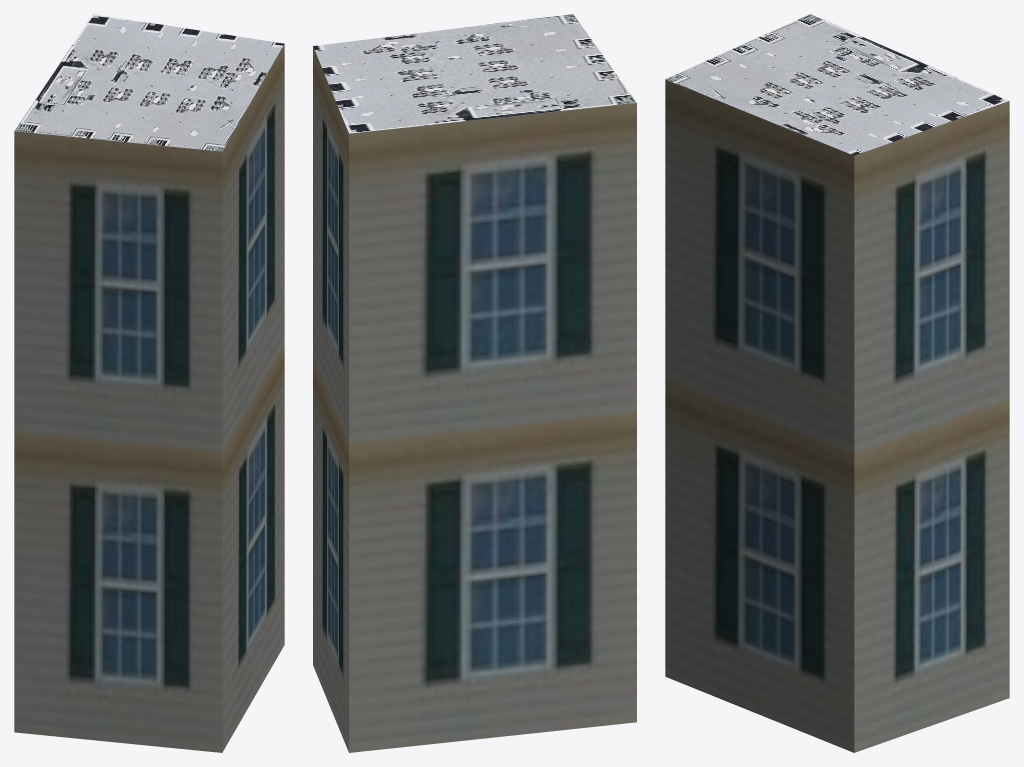
Rendered from ResTex__1810.fbx.
3 renders of one model, left to right at view 1: azimuth 30°, elevation 25°; view 2: azimuth 150°, elevation 25°; view 3: azimuth 270°, elevation 25°, orthographic. The views are drawn at different scales.
Visible parts, largest first — view 1: CityEngineMaterial_7_m, CityEngineMaterial_8_m; view 2: CityEngineMaterial_7_m, CityEngineMaterial_8_m; view 3: CityEngineMaterial_7_m, CityEngineMaterial_8_m.
Boxes of the visible parts, x1,y1,x2,y2 form: CityEngineMaterial_7_m: (14,44,284,752); CityEngineMaterial_8_m: (14,14,284,151); CityEngineMaterial_7_m: (313,46,636,752); CityEngineMaterial_8_m: (313,14,636,133); CityEngineMaterial_7_m: (665,79,1009,752); CityEngineMaterial_8_m: (665,14,1009,155).
Bounding box in the file's own units: 3.05 × 6 × 3.14.
Materials: 2 (2 with a texture image).
